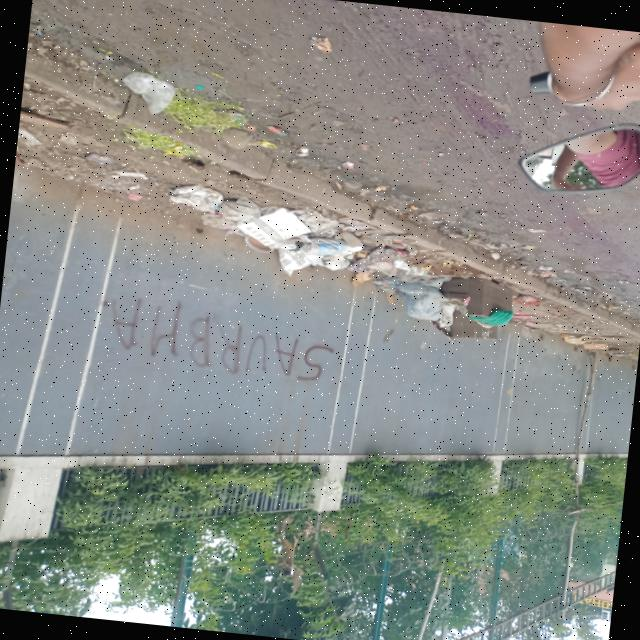garbage: (152, 180, 392, 282), (346, 242, 516, 338), (110, 70, 247, 172)
